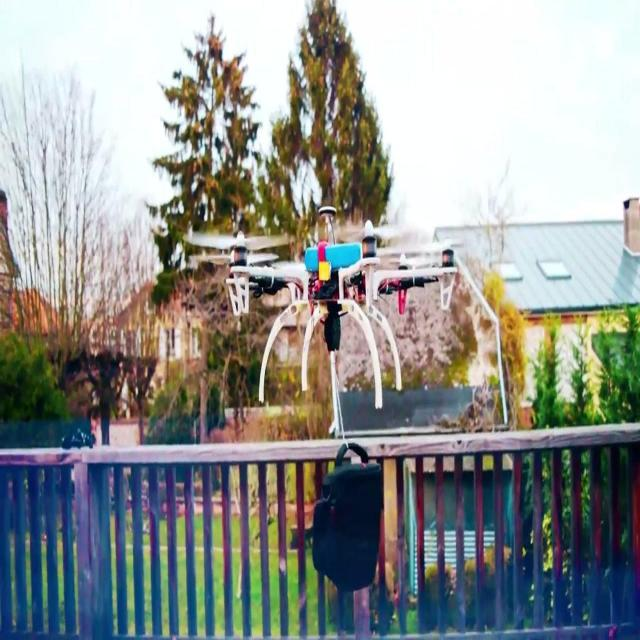UAV: (183, 204, 457, 410)
